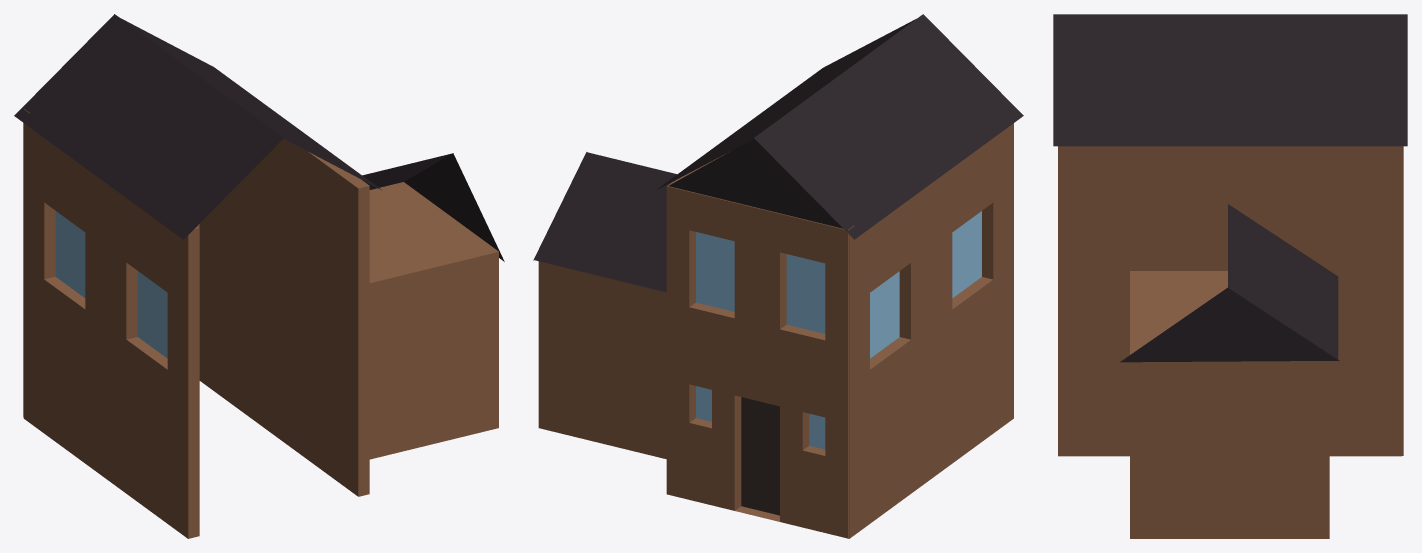
Rendered from HouseBasic 2.fbx.
3 renders of one model, left to right at view 1: azimuth 30°, elevation 25°; view 2: azimuth 150°, elevation 25°; view 3: azimuth 270°, elevation 25°, orthographic. The views are drawn at different scales.
Visible parts, largest first — view 1: Cube.001, Cube, Cube.002, Plane.001, Plane.005, Plane.004, Plane.003; view 2: Cube.003, Cube.001, Plane.001, Cube.002, Plane.003, Plane.002, Plane.005; view 3: Cube, Plane.005, Cube.002, Plane.003, Plane.004, Cube.003.
Part boxes in pixels (<box>): Cube.001: <box>23,123,199,538</box>; Cube: <box>199,139,369,496</box>; Cube.002: <box>369,182,498,459</box>; Plane.001: <box>14,14,283,239</box>; Plane.005: <box>120,18,382,190</box>; Plane.004: <box>404,153,504,261</box>; Plane.003: <box>362,153,452,189</box>; Cube.003: <box>666,181,854,538</box>; Cube.001: <box>848,123,1013,538</box>; Plane.001: <box>754,14,1023,239</box>; Cube.002: <box>538,261,666,459</box>; Plane.003: <box>534,152,676,292</box>; Plane.002: <box>669,138,843,228</box>; Plane.005: <box>655,19,915,190</box>; Cube: <box>1058,146,1401,456</box>; Plane.005: <box>1053,14,1407,146</box>; Cube.002: <box>1130,271,1329,538</box>; Plane.003: <box>1228,204,1338,359</box>; Plane.004: <box>1120,287,1339,362</box>; Cube.003: <box>1390,146,1403,455</box>.
Size of the model in its own units: 428 by 439 by 356.
